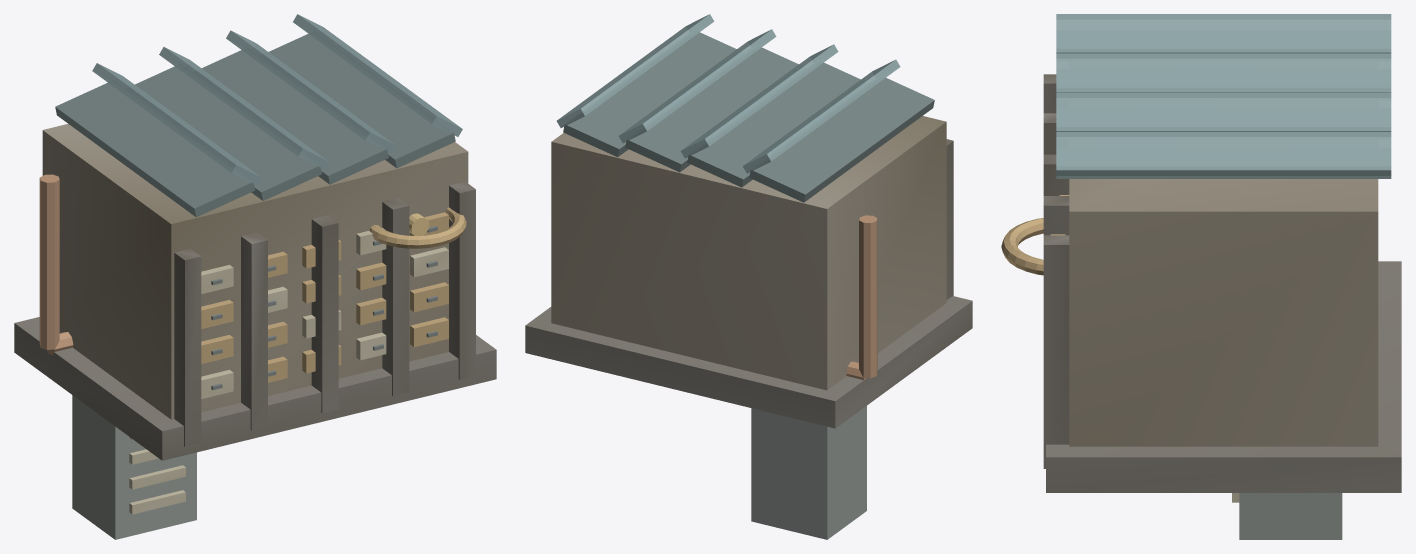
Rendered from session-archive.glb.
3 views of the same model, side by side, from view 1: azimuth 30°, elevation 25°; view 2: azimuth 150°, elevation 25°; view 3: azimuth 270°, elevation 25° (orthographic). The views are drawn at different scales.
Visible parts, largest first — view 1: archive_body, archive_plinth, archive_roof_a_0, archive_shaft, archive_roof_a_1, archive_roof_a_2, archive_roof_a_3, buttress_-1.85, buttress_-0.95, buttress_0, buttress_1.85, buttress_0.95 (+18 smaller); view 2: archive_body, archive_plinth, archive_shaft, archive_roof_a_0, archive_roof_a_2, archive_roof_a_3, archive_roof_a_1, chute, archive_roof_b_1, archive_roof_b_2, archive_roof_b_0, archive_roof_b_3 (+1 smaller); view 3: archive_body, archive_plinth, archive_roof_b_3, archive_roof_b_2, archive_roof_b_0, archive_roof_b_1, buttress_1.85, archive_shaft, archive_roof_a_3, registry_ring, archive_roof_a_0, archive_roof_a_1 (+5 smaller).
Boxes of the visible parts, x1=… form: archive_body: x1=42, y1=124, x2=468, y2=419; archive_plinth: x1=14, y1=317, x2=496, y2=460; archive_roof_a_0: x1=55, y1=80, x2=255, y2=217; archive_shaft: x1=72, y1=395, x2=196, y2=539; archive_roof_a_1: x1=135, y1=64, x2=321, y2=200; archive_roof_a_2: x1=201, y1=48, x2=388, y2=184; archive_roof_a_3: x1=269, y1=31, x2=455, y2=168; buttress_-1.85: x1=174, y1=248, x2=201, y2=446; buttress_-0.95: x1=241, y1=232, x2=267, y2=430; buttress_0: x1=311, y1=215, x2=338, y2=413; buttress_1.85: x1=449, y1=181, x2=475, y2=379; buttress_0.95: x1=382, y1=198, x2=409, y2=396; archive_body: x1=551, y1=116, x2=946, y2=390; archive_plinth: x1=525, y1=296, x2=972, y2=428; archive_shaft: x1=751, y1=406, x2=866, y2=539; archive_roof_a_0: x1=749, y1=76, x2=934, y2=202; archive_roof_a_2: x1=625, y1=45, x2=798, y2=172; archive_roof_a_3: x1=563, y1=30, x2=736, y2=157; archive_roof_a_1: x1=687, y1=60, x2=860, y2=187; chute: x1=859, y1=215, x2=877, y2=378; archive_roof_b_1: x1=680, y1=44, x2=838, y2=158; archive_roof_b_2: x1=618, y1=29, x2=776, y2=143; archive_roof_b_0: x1=742, y1=59, x2=900, y2=173; archive_roof_b_3: x1=556, y1=14, x2=714, y2=127; archive_body: x1=1069, y1=179, x2=1378, y2=446; archive_plinth: x1=1046, y1=261, x2=1401, y2=492; archive_roof_b_3: x1=1056, y1=131, x2=1391, y2=175; archive_roof_b_2: x1=1056, y1=92, x2=1391, y2=131; archive_roof_b_0: x1=1056, y1=14, x2=1391, y2=53; archive_roof_b_1: x1=1056, y1=53, x2=1391, y2=92; buttress_1.85: x1=1043, y1=235, x2=1069, y2=468; archive_shaft: x1=1239, y1=493, x2=1342, y2=539; archive_roof_a_3: x1=1056, y1=167, x2=1391, y2=178; registry_ring: x1=1001, y1=218, x2=1043, y2=275; archive_roof_a_0: x1=1057, y1=49, x2=1390, y2=52; archive_roof_a_1: x1=1057, y1=88, x2=1390, y2=91.
Bounding box in the file's own units: 4.62 × 5.4 × 3.89.
